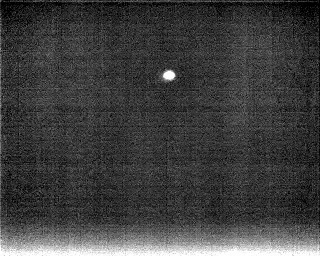AIRPLANE: (160, 67, 178, 84)
